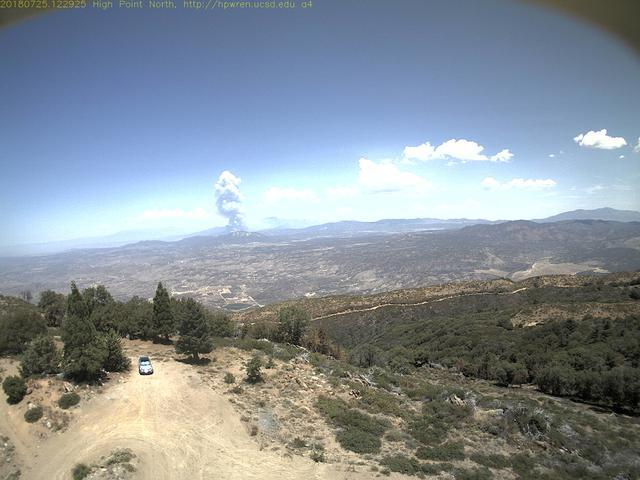smoke: (210, 167, 255, 239)
